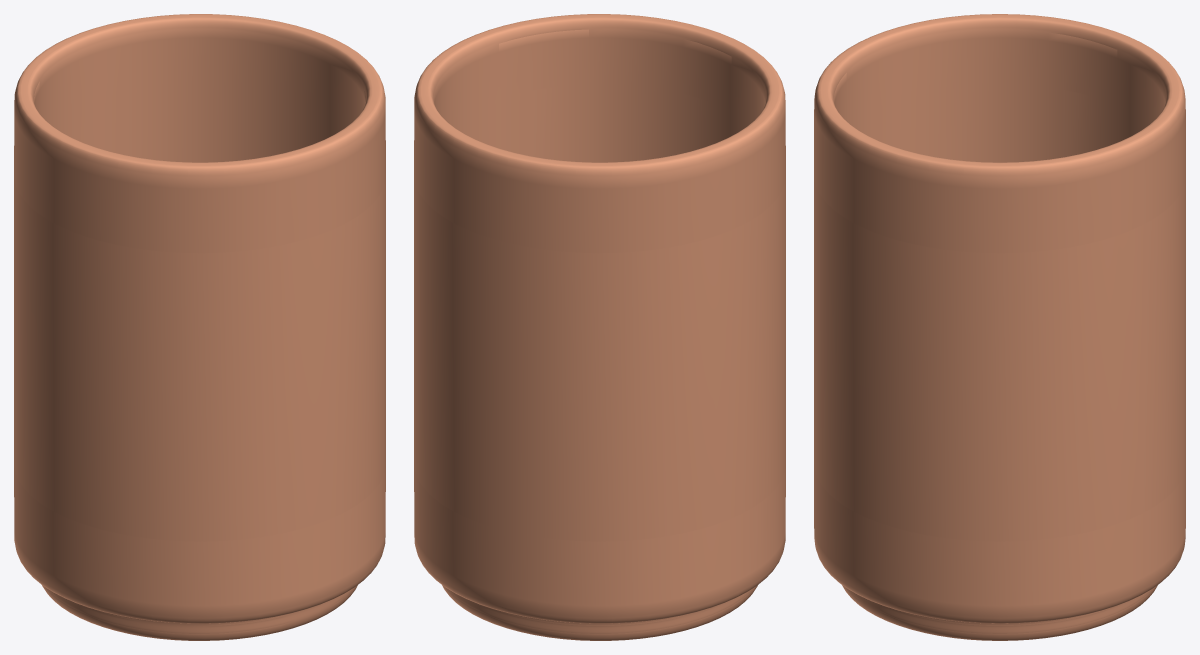
File: Trash1.glb
The picture shows the model from 3 angles, left to right: view 1: azimuth 30°, elevation 25°; view 2: azimuth 150°, elevation 25°; view 3: azimuth 270°, elevation 25°; orthographic projection.
Parts seen in each view (by area): view 1: Cylinder; view 2: Cylinder; view 3: Cylinder.
Boxes of the visible parts, <box> form: Cylinder: <box>14,14,385,640</box>; Cylinder: <box>414,14,785,640</box>; Cylinder: <box>814,14,1185,640</box>.
Bounding box in the file's own units: 0.3946 × 0.5665 × 0.3946.
